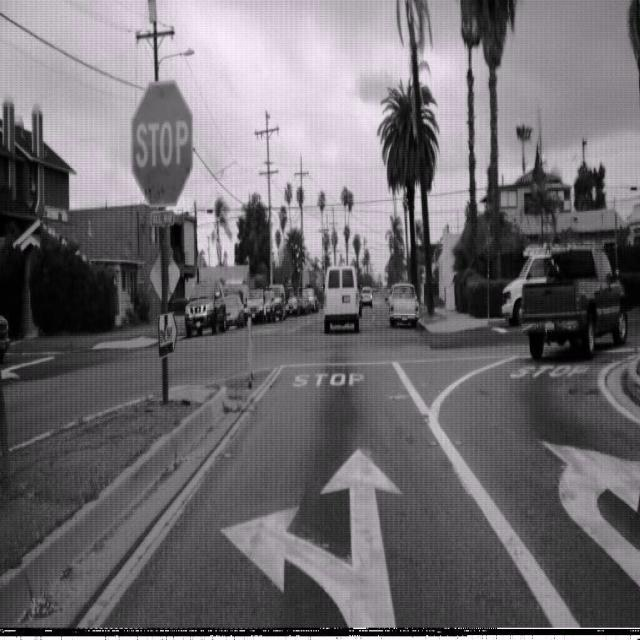stop_sign: (129, 79, 193, 207)
